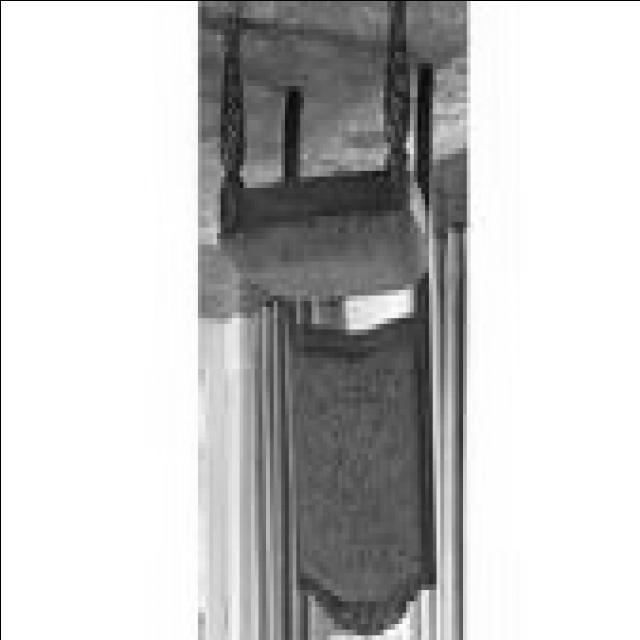chair: (215, 5, 452, 639)
